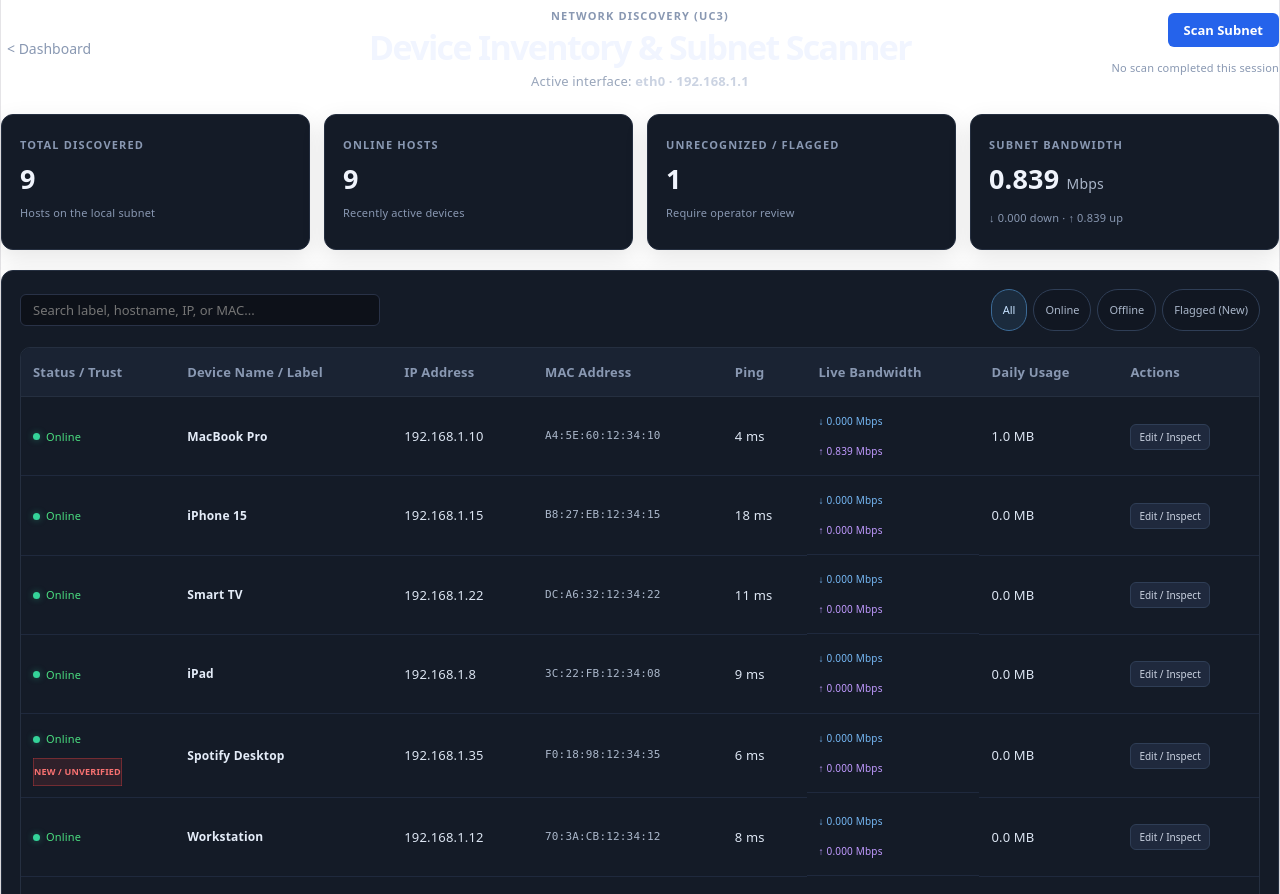
Scenario: DevicesPage › shows simulated devices, packet-derived bandwidth, and filters by search and status
The width and height of the screenshot is (1280, 894).
Expected: the button "< Dashboard" is shown, [1,38,97,59]
Expected: the text "192.168.1.10" is shown, [392,396,533,476]
Click the button "Flagged (New)" at [1211, 310], box [1162,289,1260,331]
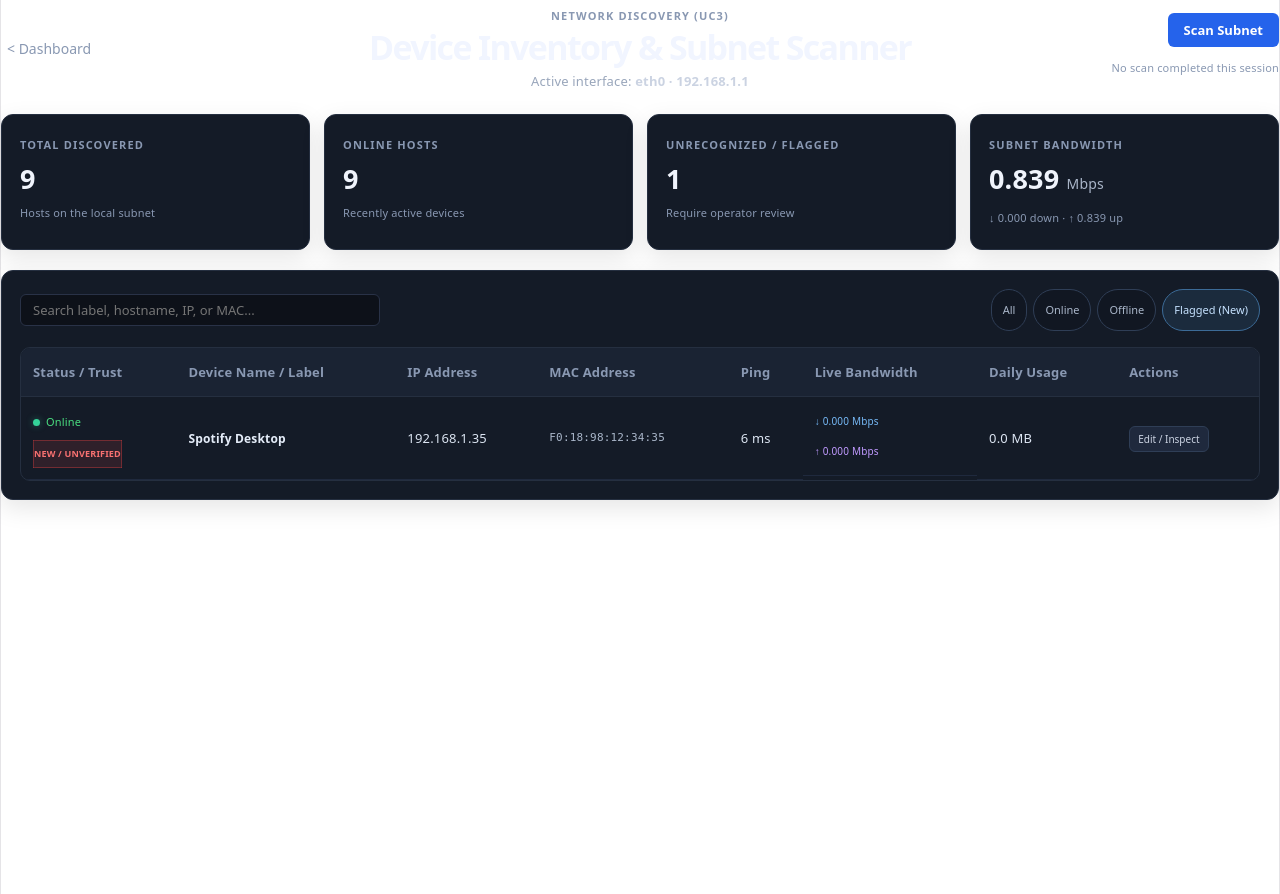
Expected: the text "Spotify Desktop" is shown, [188,430,286,446]
Expected: the text "MacBook Pro" is gone
Click the button "All" at [1009, 310], box [991,289,1027,331]
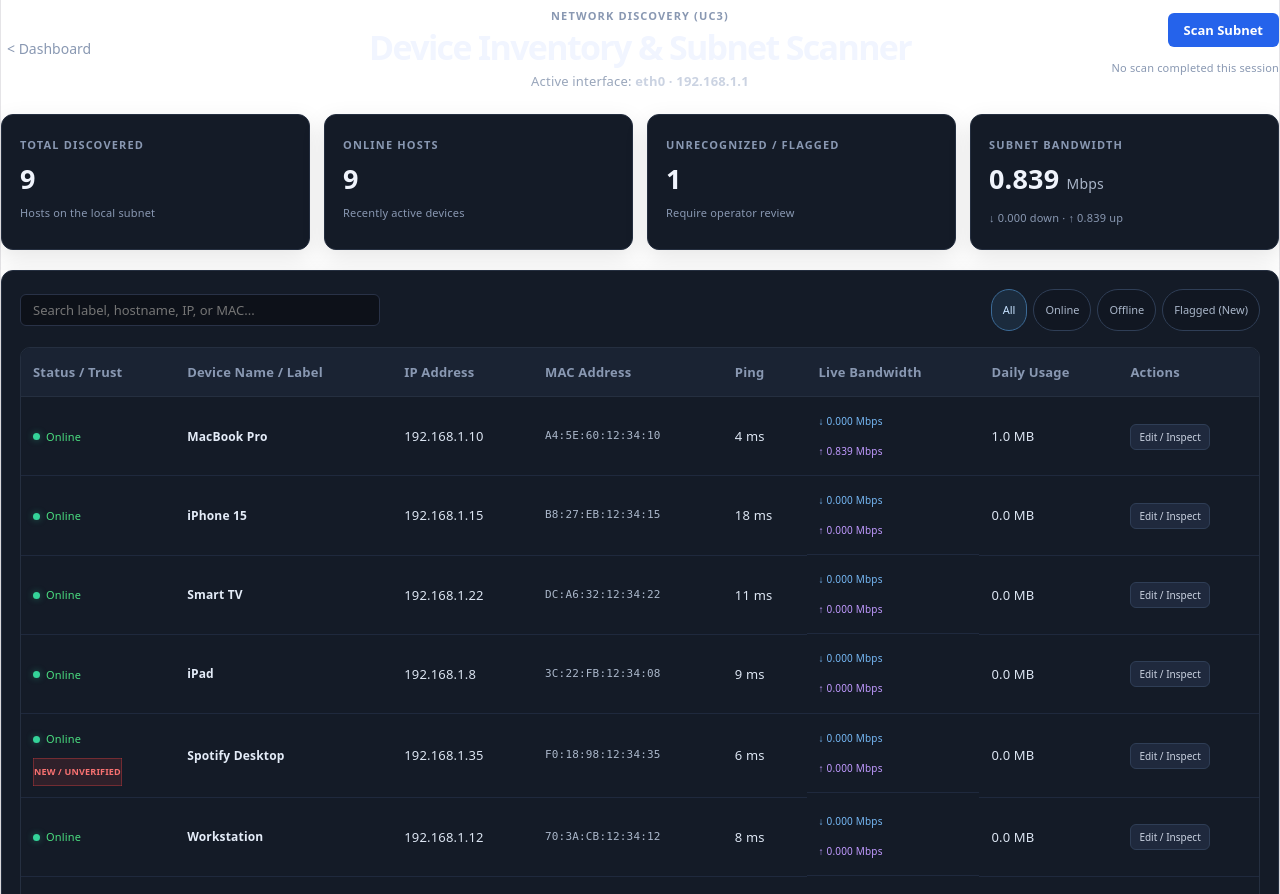
Type "A4:5E:60" into the search field named "Search devices" at [200, 310], box [20,294,380,326]
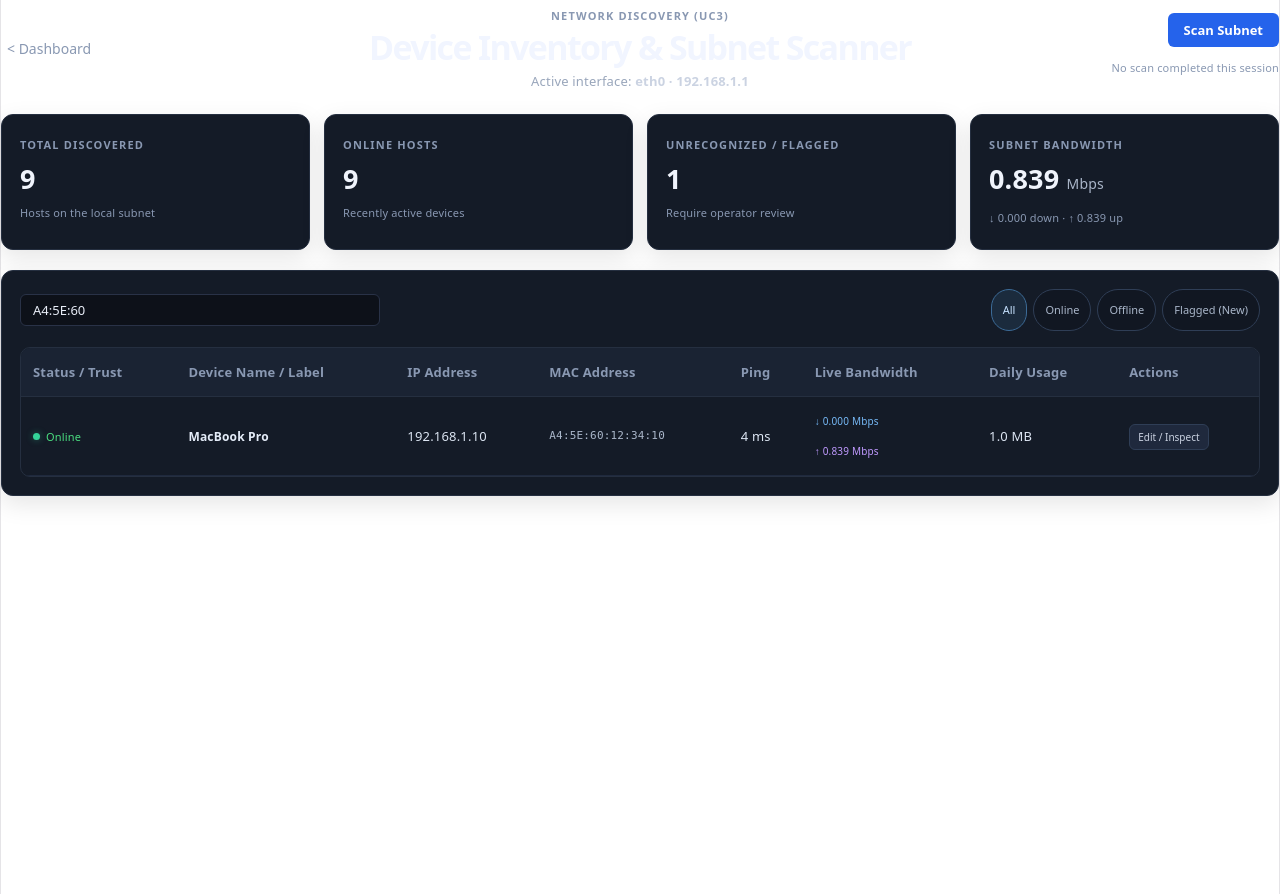
Expected: the text "MacBook Pro" is shown, [188,428,269,444]
Expected: the text "Spotify Desktop" is gone
